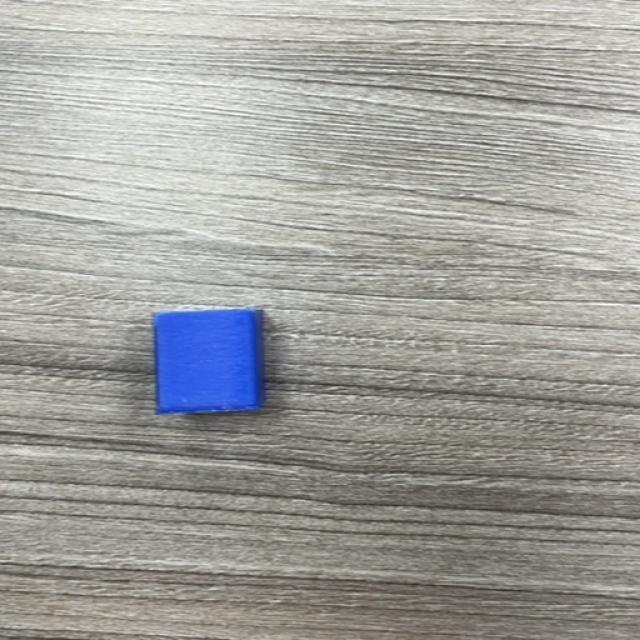Azul: (152, 310, 268, 415)
